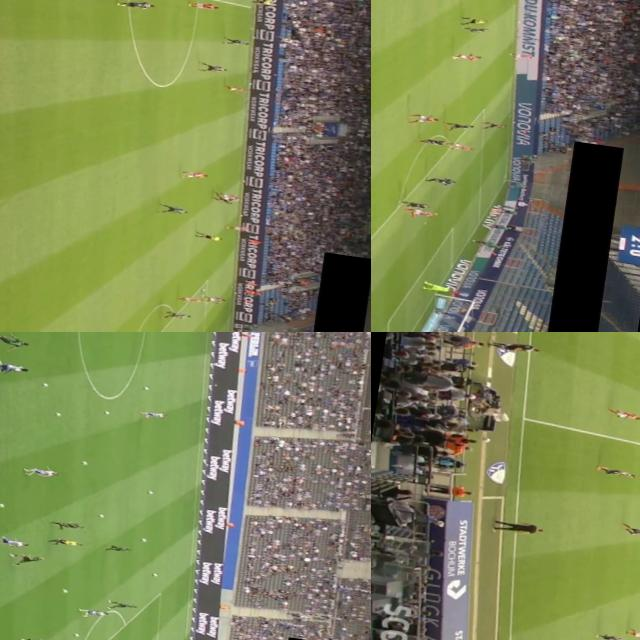ball: (200, 287, 208, 292), (62, 588, 69, 593), (104, 409, 110, 414), (44, 382, 50, 387), (142, 537, 148, 542), (74, 632, 80, 637), (56, 412, 63, 416), (144, 386, 150, 390), (153, 572, 159, 576), (0, 502, 4, 507), (149, 490, 154, 494), (100, 514, 105, 518), (83, 460, 89, 463)
player: (7, 550, 46, 568), (24, 464, 61, 481), (0, 356, 31, 376), (0, 332, 32, 351), (448, 49, 484, 64), (115, 0, 157, 12), (440, 120, 475, 134), (158, 202, 192, 216), (606, 406, 640, 420), (0, 534, 30, 549), (54, 518, 85, 532), (406, 207, 439, 220), (408, 112, 440, 125), (201, 61, 230, 75), (106, 600, 139, 612), (597, 466, 636, 476), (402, 199, 434, 211), (78, 606, 110, 618), (428, 174, 457, 187), (223, 36, 254, 48), (166, 309, 197, 321), (180, 168, 210, 180), (140, 408, 165, 422), (187, 0, 220, 10), (421, 282, 454, 292), (596, 631, 631, 640), (464, 24, 490, 36), (201, 294, 226, 306), (480, 120, 510, 130), (418, 136, 448, 146), (448, 140, 478, 150), (223, 84, 250, 95), (105, 544, 134, 554), (176, 294, 204, 304), (217, 191, 242, 202), (622, 523, 640, 538), (508, 50, 534, 60), (622, 627, 640, 640), (225, 224, 251, 232), (213, 194, 236, 203), (20, 636, 55, 640)
